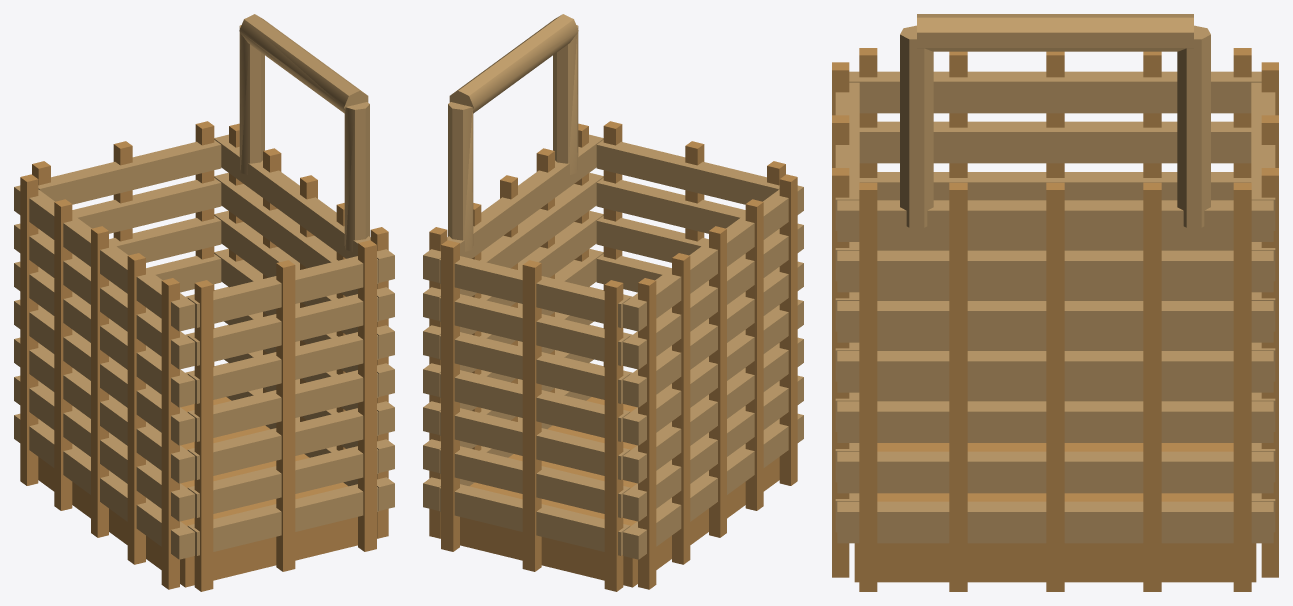
Rendered from 109_woven_carrying_pannier.fbx.
The picture shows the model from 3 angles, left to right: view 1: azimuth 30°, elevation 25°; view 2: azimuth 150°, elevation 25°; view 3: azimuth 270°, elevation 25°; orthographic projection. The views are drawn at different scales.
Parts seen in each view (by area): view 1: 109_woven_carrying_pannier; view 2: 109_woven_carrying_pannier; view 3: 109_woven_carrying_pannier.
Part boxes in pixels (x1,y1,x2,y2): 109_woven_carrying_pannier: (14,14,394,591); 109_woven_carrying_pannier: (423,14,803,591); 109_woven_carrying_pannier: (832,14,1278,591).
Size of the model in its own units: 0.4877 by 0.9073 by 0.645.
1 material, 1 textured.
